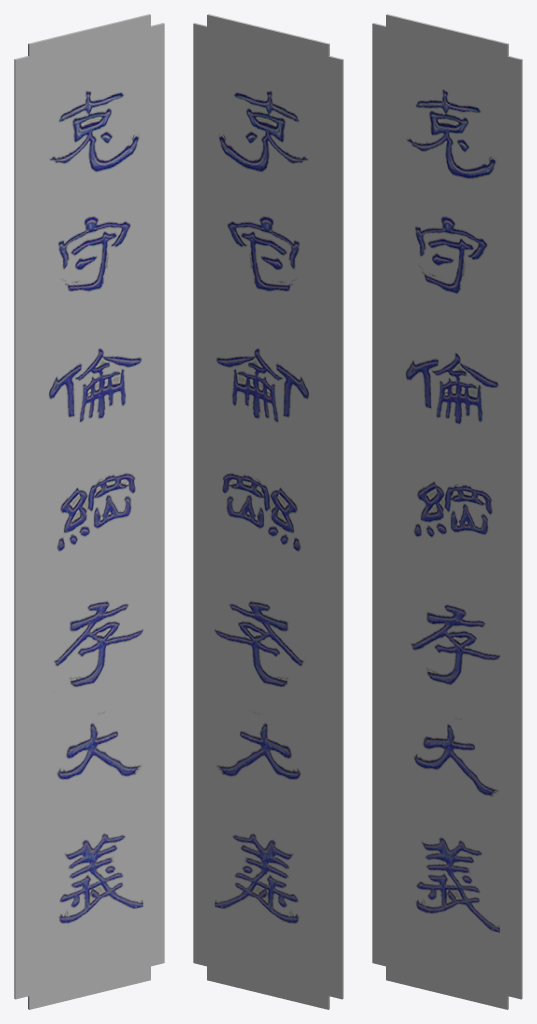
Rendered from SM_Unhyun_Norak_Joo_S001.fbx.
3 renders of one model, left to right at view 1: azimuth 30°, elevation 25°; view 2: azimuth 150°, elevation 25°; view 3: azimuth 330°, elevation 25°, orthographic.
Visible parts, largest first — view 1: SM_Unhyun_Norak_Joo_S001; view 2: SM_Unhyun_Norak_Joo_S001; view 3: SM_Unhyun_Norak_Joo_S001.
Part boxes in pixels (x1,y1,x2,y2): SM_Unhyun_Norak_Joo_S001: (14,14,164,1009); SM_Unhyun_Norak_Joo_S001: (193,14,343,1009); SM_Unhyun_Norak_Joo_S001: (372,14,522,1009).
Bounding box in the file's own units: 14.56 × 90.01 × 0.2.
